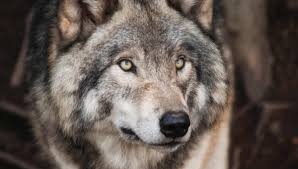Lobo: (40, 3, 241, 158)
